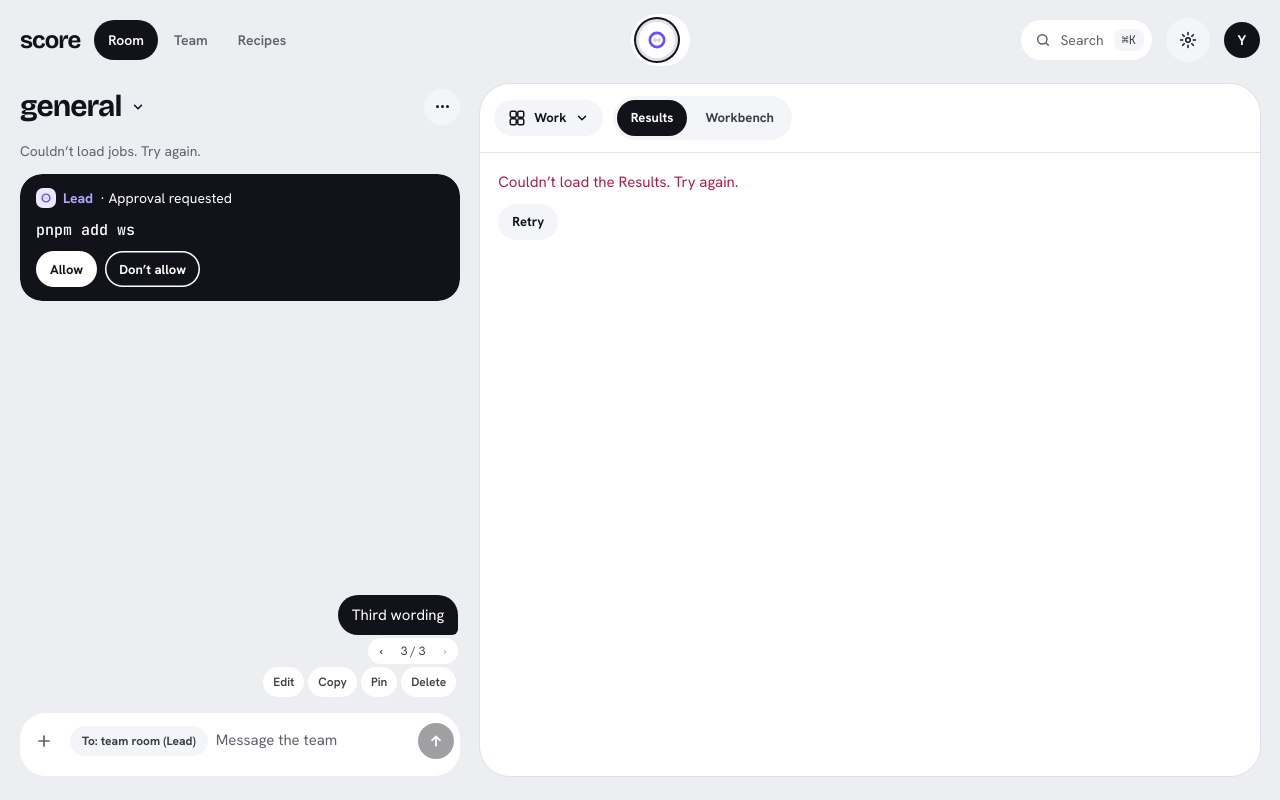
a chain of three edits steps 1 / 3, 2 / 3, 3 / 3
Expected: the text "Third wording" is shown, [352,604,444,626]
Click the button named "Previous version". click: [381, 651]
box: [368,638,394,664]
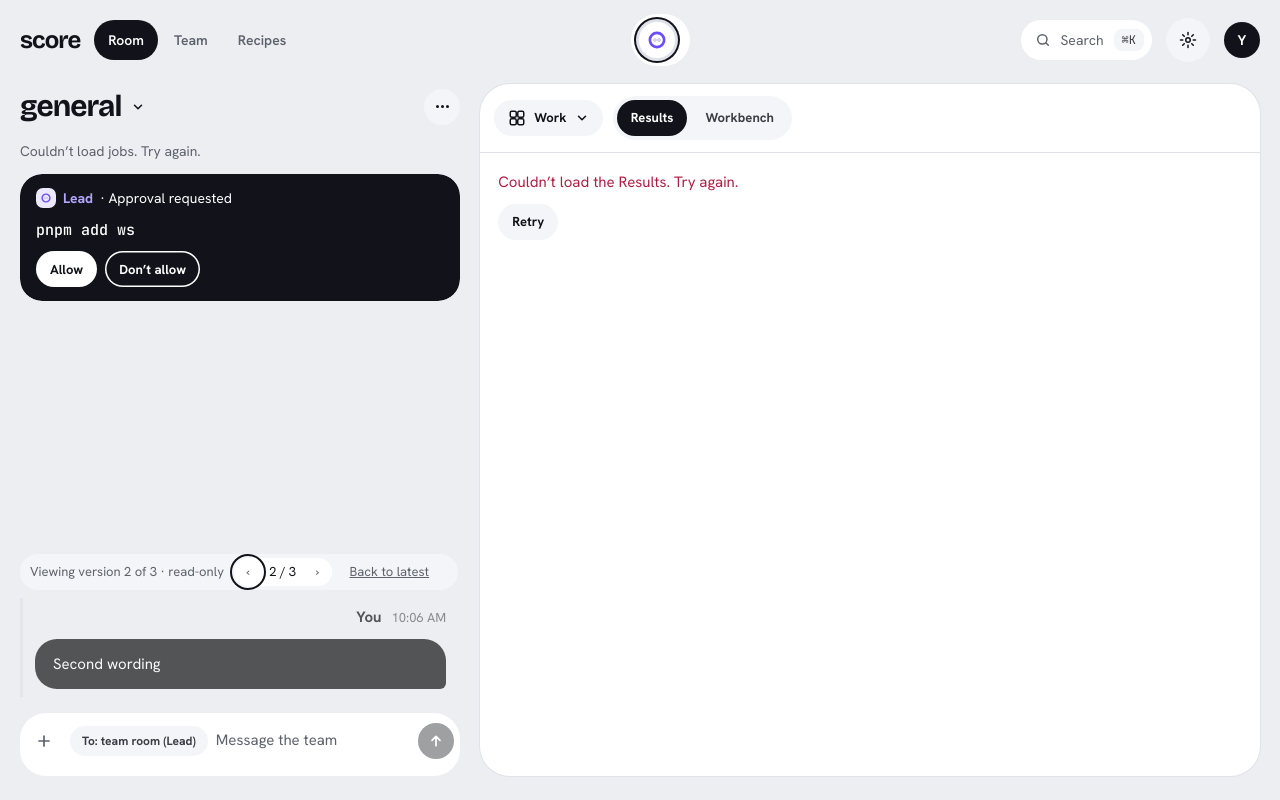
Result: the text "Second wording" is shown at [53,654,161,674]
Result: the text "Viewing version 2 of 3 · read-only" is shown at [30,562,224,582]
Click the button named "Previous version". click: [248, 572]
box: [234,558,262,586]
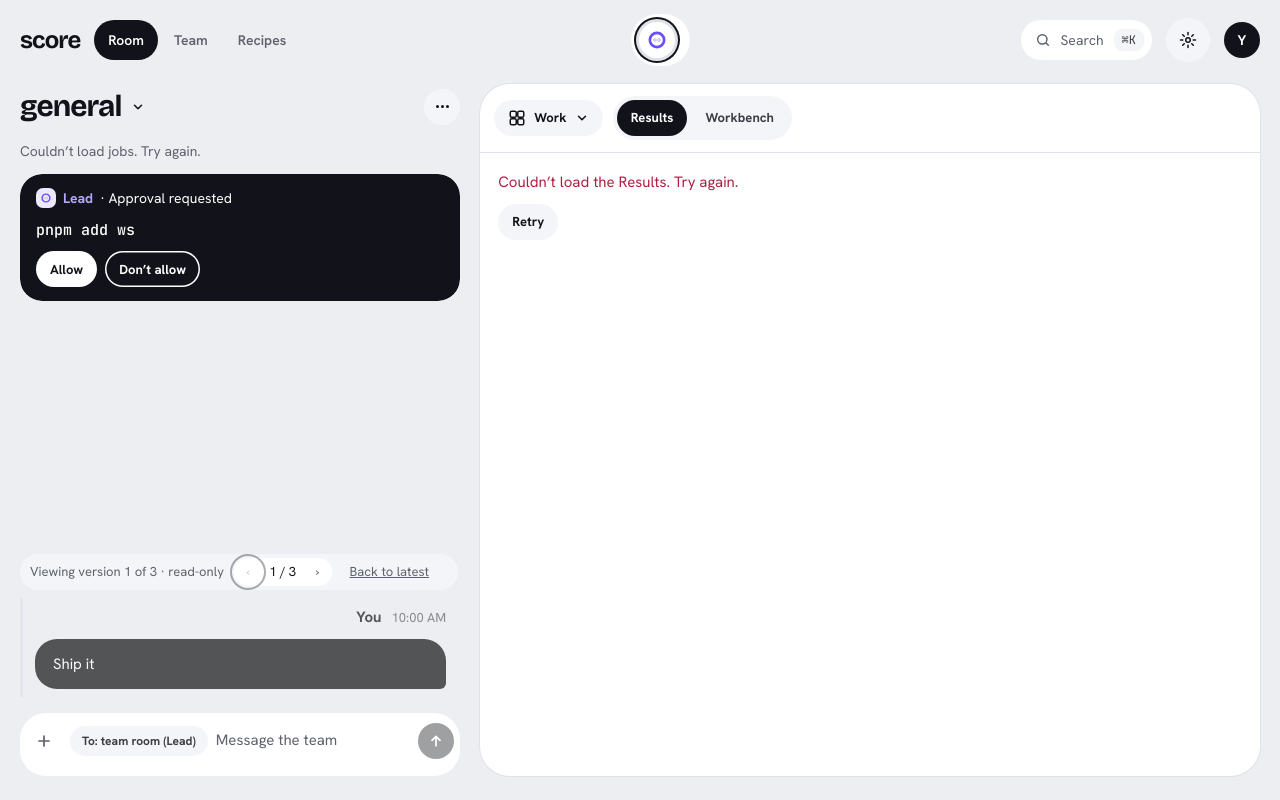
Result: the text "Ship it" is shown at [53,654,94,674]
Result: the text "Viewing version 1 of 3 · read-only" is shown at [30,562,224,582]
Click the button named "Next version". click: [318, 572]
box: [304,558,332,586]
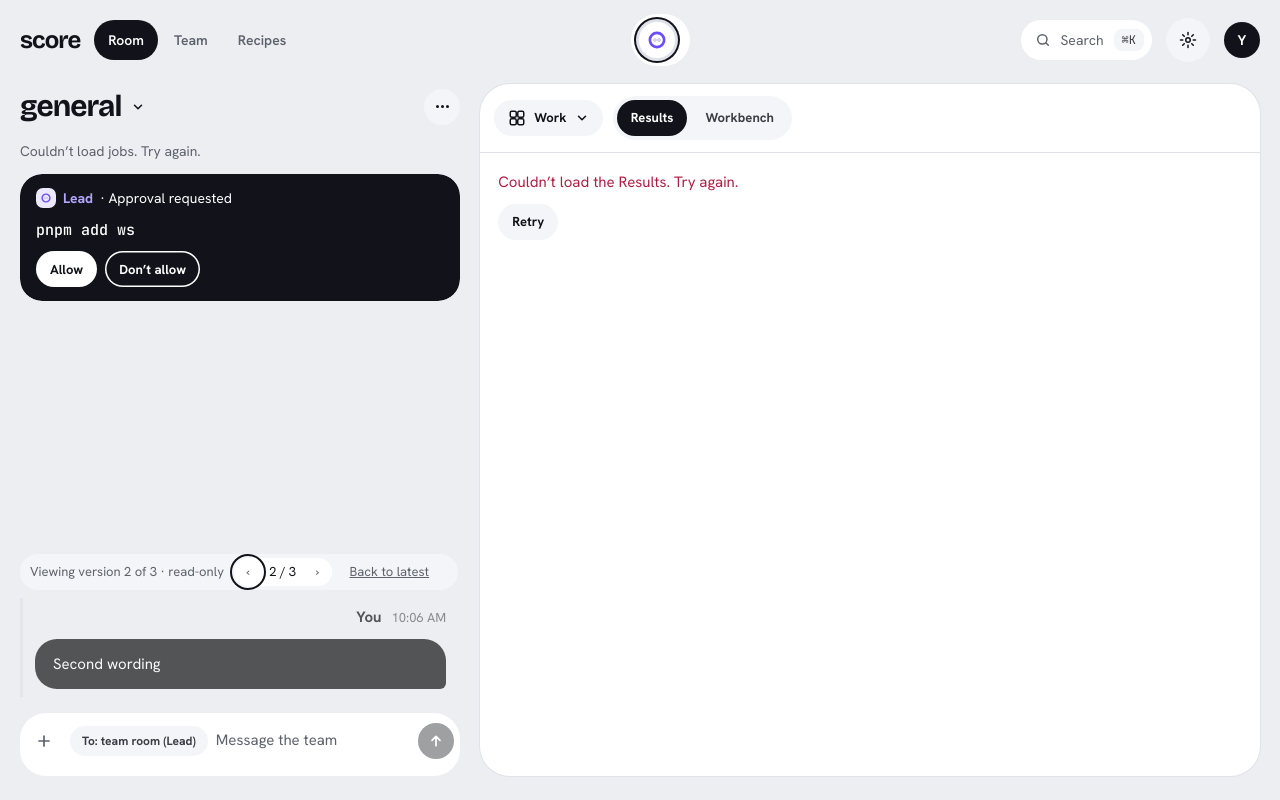
Result: the text "Second wording" is shown at [53,654,161,674]
